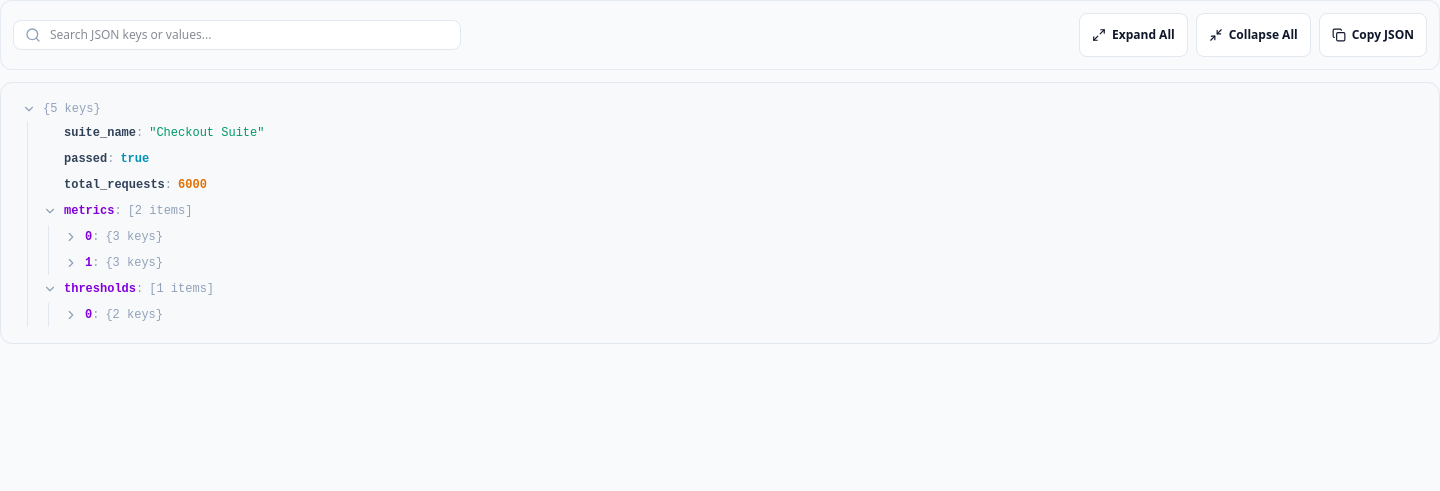
Test: JsonTreeViewer › filters and highlights matching search query
This screenshot has width=1440, height=491.
Type "req_duration" into the field with placeholder "Search JSON keys or values...". click: (237, 35)
box: left=13, top=20, right=461, bottom=50
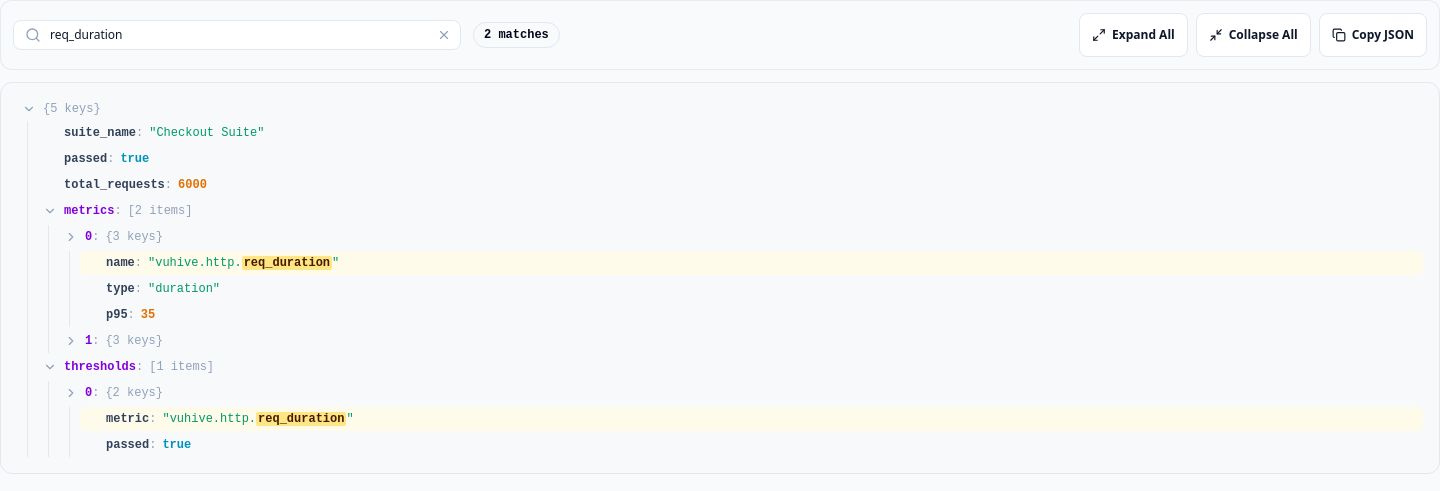
Check: the 1st text "req_duration" is shown, box left=242, top=256, right=332, bottom=270
Check: the text "2 matches" is shown, box left=473, top=22, right=560, bottom=48
